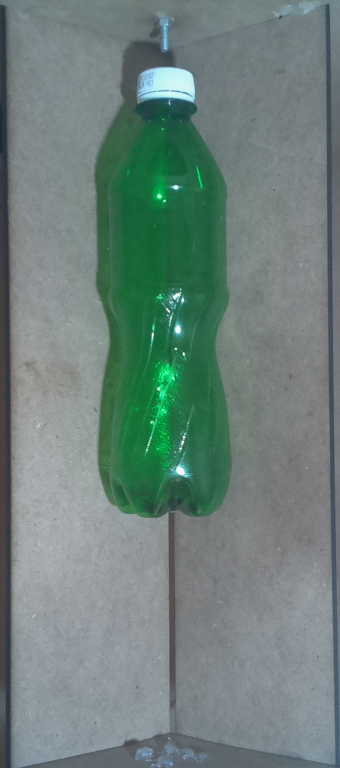Bouteille_0.5L: (94, 62, 244, 526)
